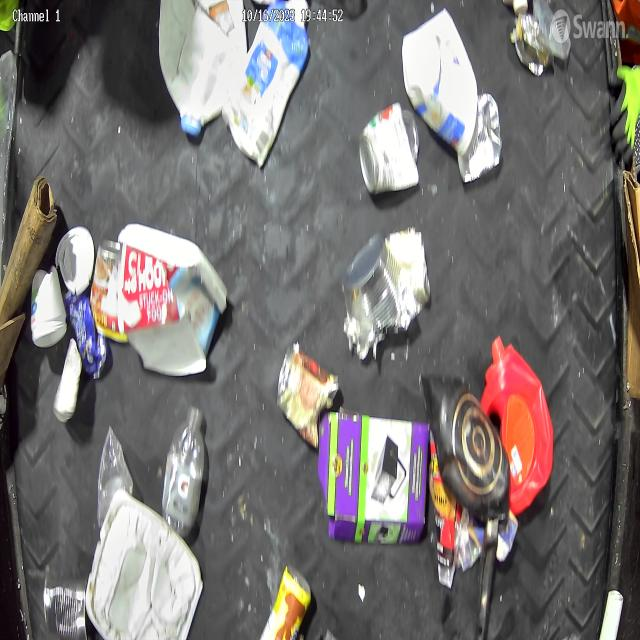can: (342, 232, 414, 361), (276, 343, 340, 452), (358, 101, 420, 194), (458, 92, 502, 186), (90, 239, 128, 345), (63, 291, 108, 378), (42, 573, 87, 640)
milk_jug: (222, 0, 310, 169), (158, 0, 248, 139)
non_white_jug: (480, 334, 554, 516)
plastic_bottle: (162, 405, 206, 532)
